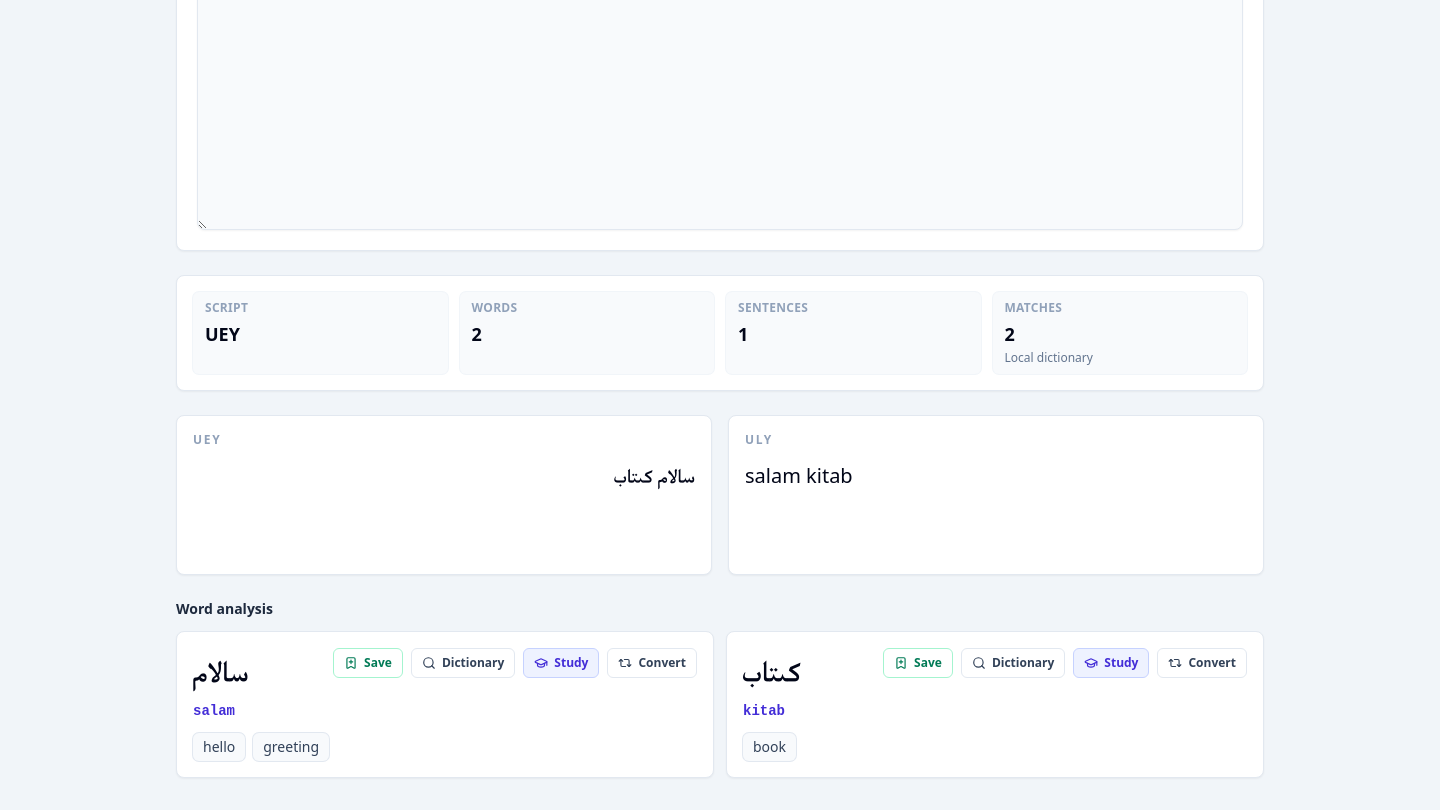
App conversion workflow › saves Reader words for local review
(page scrolled)
expect the text "hello" is shown: met, box [193,733,245,761]
Click the button with aria-label "Save salam for review".
click(368, 663)  # box [333,648,403,678]
(page scrolled)
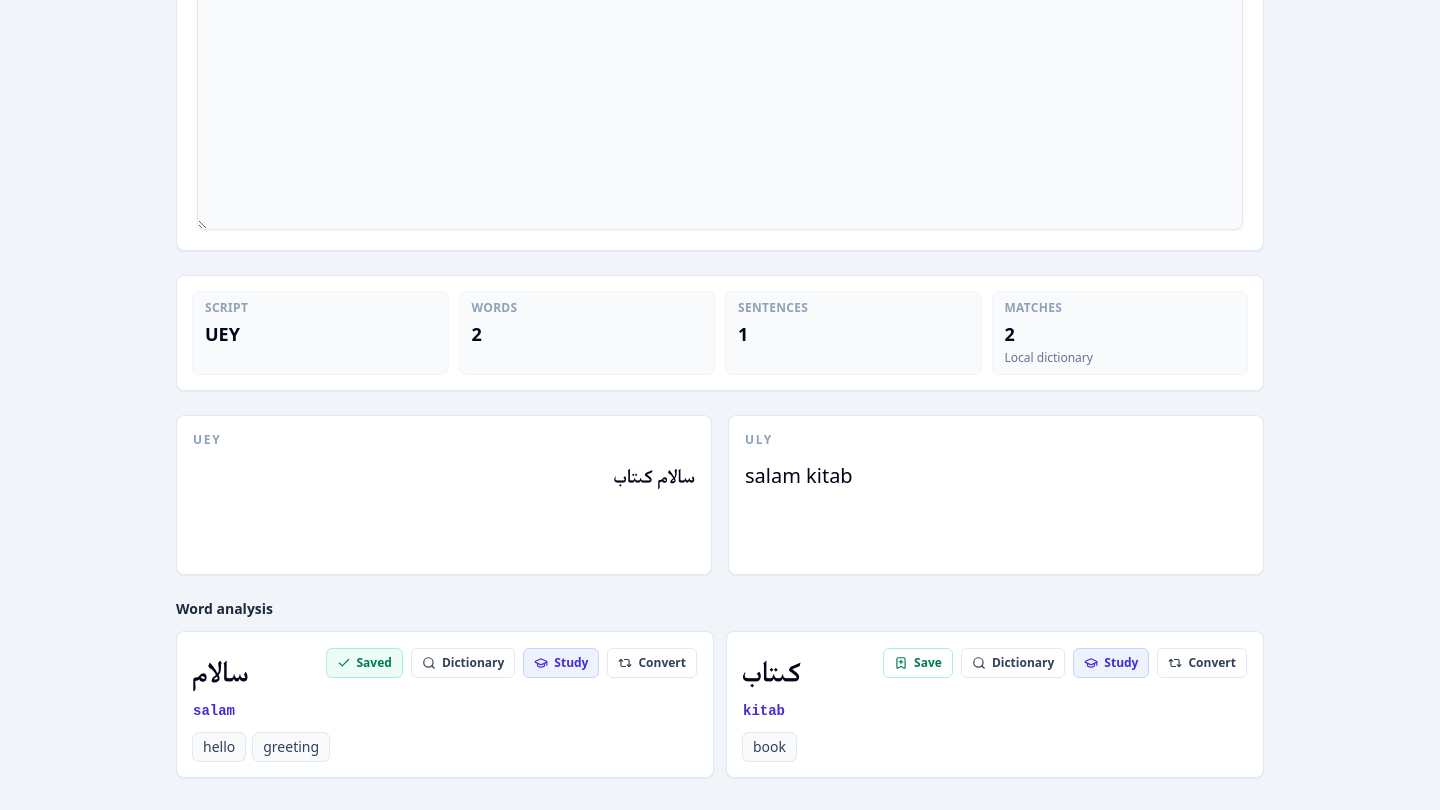
expect the button with aria-label "salam saved for review" is disabled: met, box [326,648,403,678]
